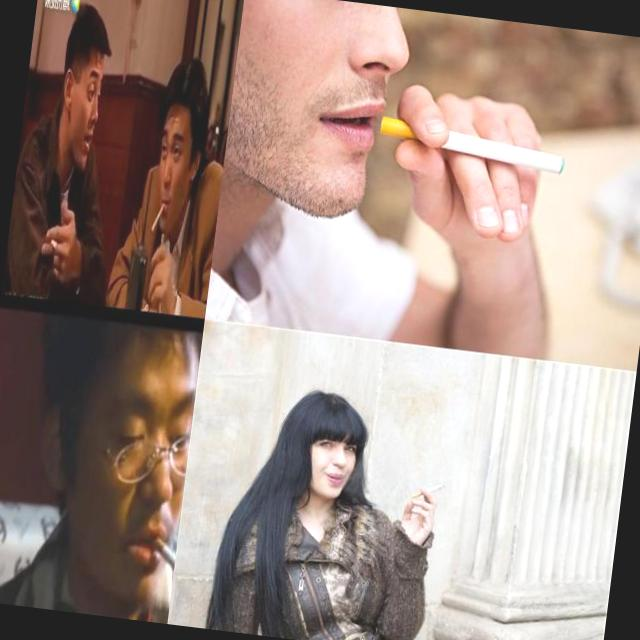cigarette: (375, 114, 566, 176), (140, 532, 178, 590), (408, 476, 448, 505), (150, 195, 167, 233)
